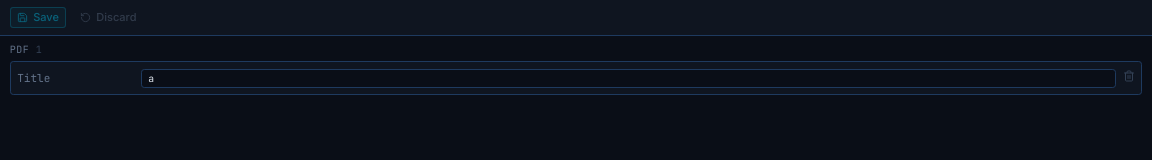
typed values are sent with their JSON type › server field errors are shown next to the field
The width and height of the screenshot is (1152, 160).
Replace the text in the field named "Title" with "b" at (629, 79), box [141, 69, 1116, 88]
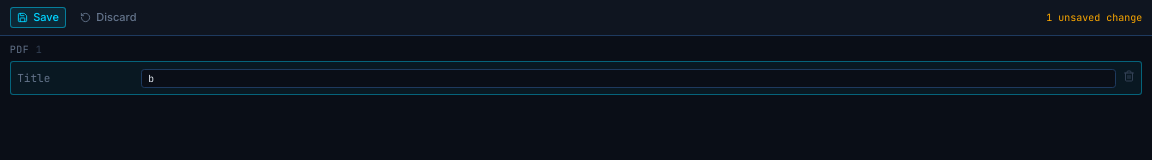
Click the button "Save" at (38, 17), box [10, 6, 66, 28]
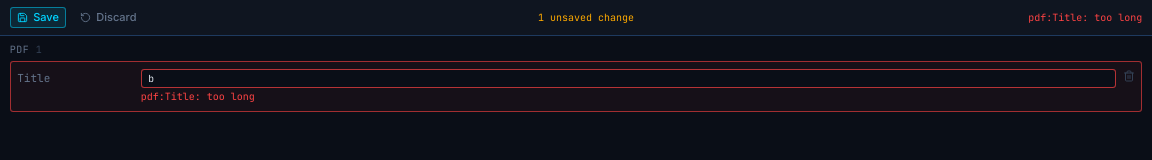
Expected: the message reads "pdf:Title: too long", [141, 90, 255, 103]
